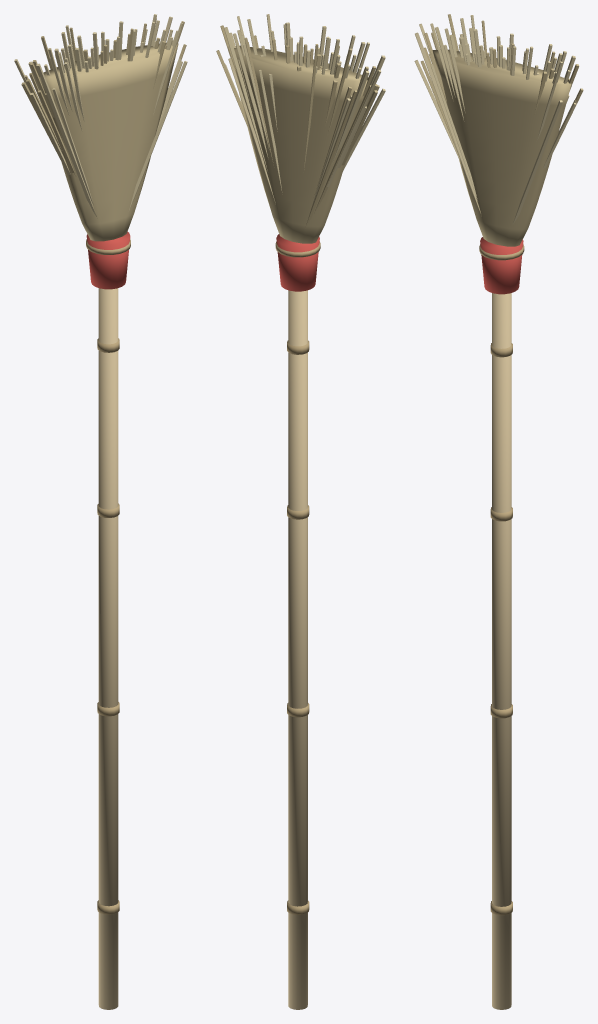
Rendered from broom.glb.
3 views of the same model, side by side, from view 1: azimuth 30°, elevation 25°; view 2: azimuth 150°, elevation 25°; view 3: azimuth 330°, elevation 25° (orthographic).
Parts seen in each view (by area): view 1: Broom_Head_Core, Broom_Handle, Broom_Bristles, Broom_Binding; view 2: Broom_Handle, Broom_Head_Core, Broom_Bristles, Broom_Binding; view 3: Broom_Head_Core, Broom_Handle, Broom_Bristles, Broom_Binding.
Part boxes in pixels (left/top/right/bottom): Broom_Head_Core: left=39, top=42, right=178, bottom=241; Broom_Handle: left=98, top=288, right=118, bottom=1009; Broom_Bristles: left=14, top=14, right=187, bottom=217; Broom_Binding: left=86, top=231, right=130, bottom=289; Broom_Handle: left=288, top=290, right=307, bottom=1009; Broom_Head_Core: left=234, top=45, right=367, bottom=243; Broom_Bristles: left=216, top=14, right=385, bottom=227; Broom_Binding: left=276, top=234, right=319, bottom=291; Broom_Head_Core: left=432, top=49, right=571, bottom=246; Broom_Handle: left=492, top=293, right=511, bottom=1009; Broom_Bristles: left=414, top=14, right=583, bottom=223; Broom_Binding: left=480, top=237, right=523, bottom=294.
Size of the model in its own units: 0.2677 by 1.49 by 0.062.
